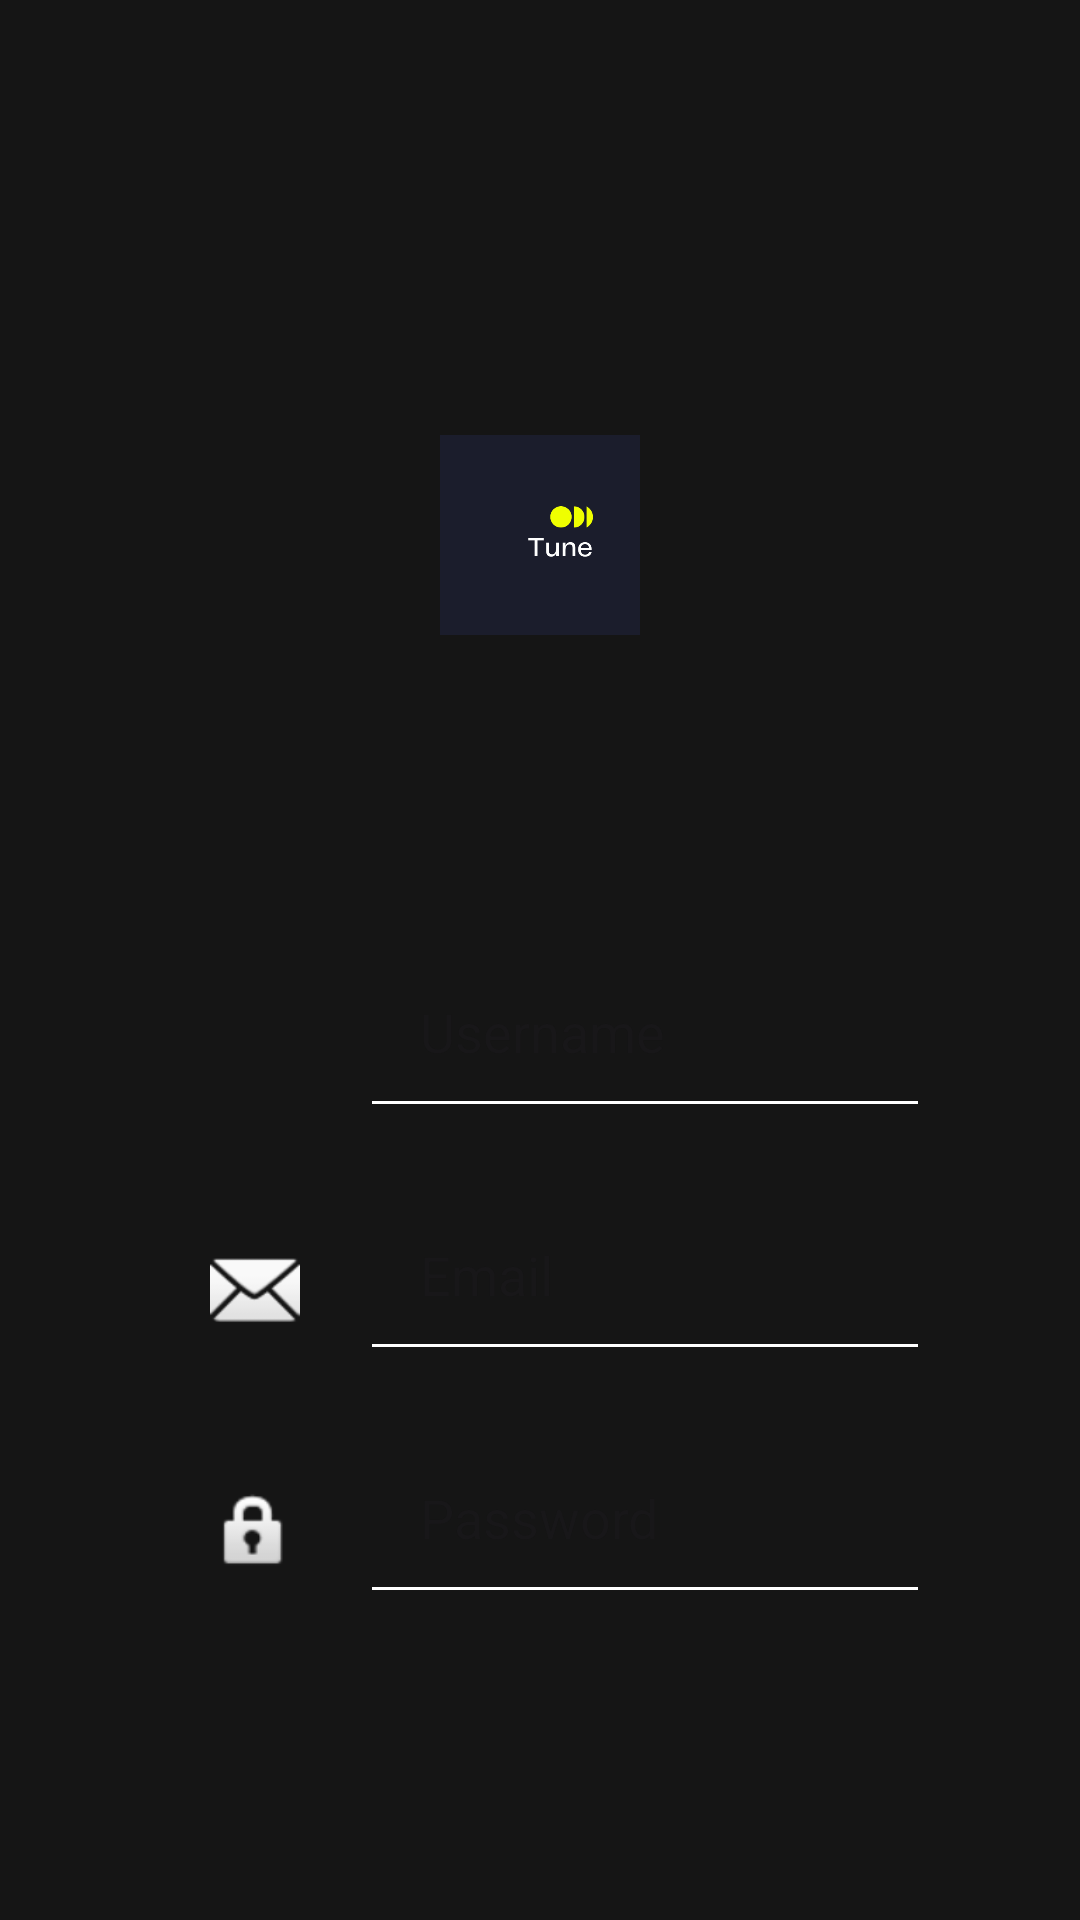

Point at icon controls on the screen. Image size 1080w x 1920h, points as (x=x, y=y).
lock idle: (x=252, y=1529)
